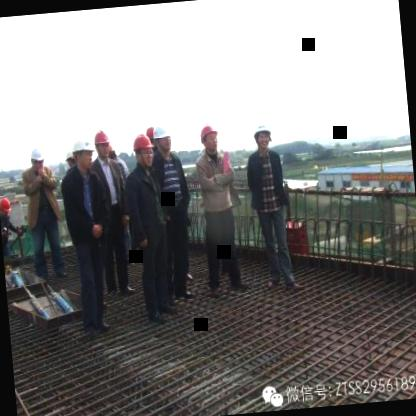helmet: (151, 116, 176, 158), (70, 134, 97, 172), (250, 118, 276, 156), (90, 125, 115, 164), (130, 130, 154, 169), (198, 116, 220, 156), (24, 142, 48, 174), (0, 194, 13, 221)
